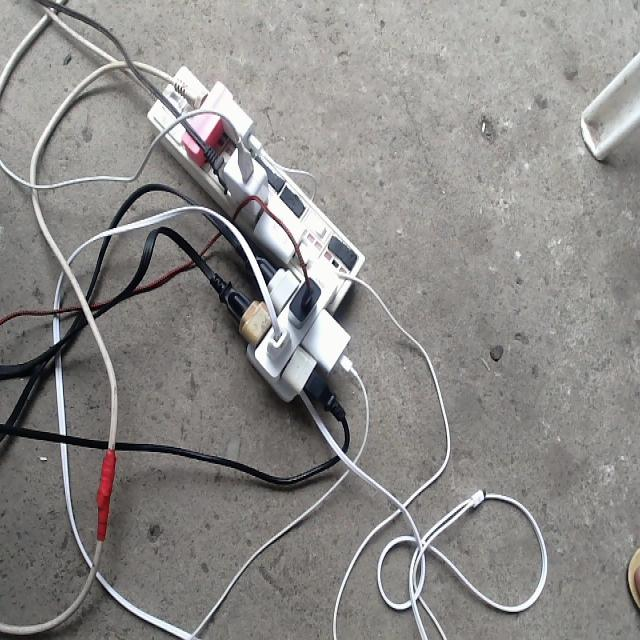-: (148, 65, 363, 423)
